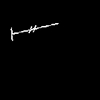treble_crochet: (11, 23, 57, 40)
